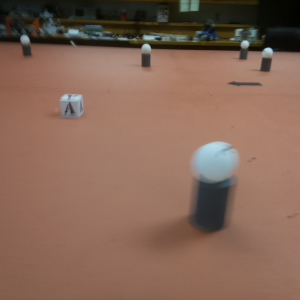obstacle: (192, 138, 238, 236), (258, 45, 274, 74), (139, 40, 154, 67), (237, 36, 251, 60), (19, 34, 33, 56)
